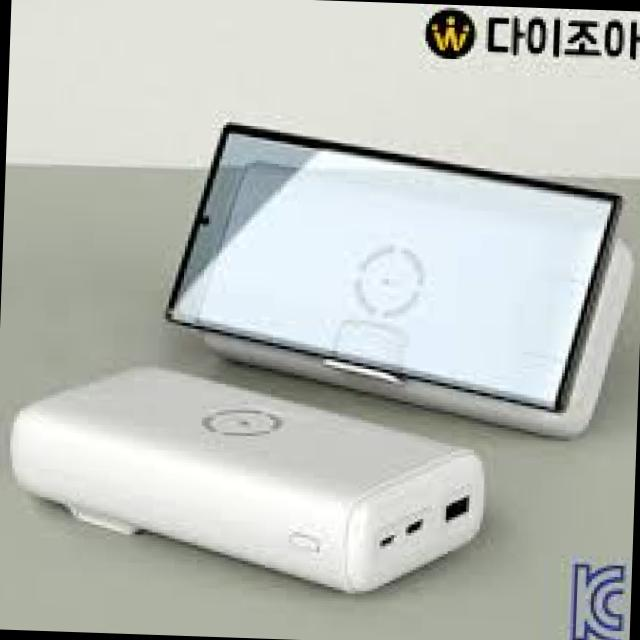power_bank: (197, 158, 630, 446), (9, 354, 496, 606)
